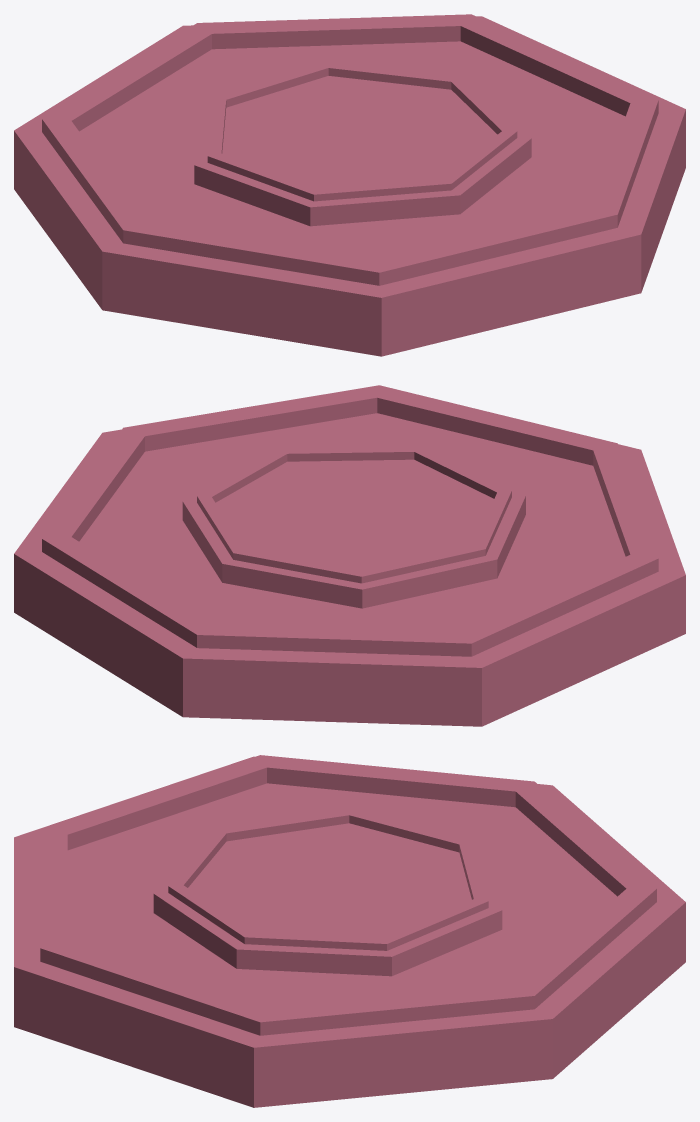
File: Platform_1.fbx
3 views of the same model, one above another, from view 1: azimuth 30°, elevation 25°; view 2: azimuth 150°, elevation 25°; view 3: azimuth 270°, elevation 25° (orthographic). The views are drawn at different scales.
Visible parts, largest first — view 1: Platform; view 2: Platform; view 3: Platform.
Boxes of the visible parts, left/top/right/bottom form: Platform: left=14, top=14, right=685, bottom=356; Platform: left=14, top=385, right=685, bottom=726; Platform: left=14, top=755, right=685, bottom=1107.
Size of the model in its own units: 195 by 26.26 by 190.
